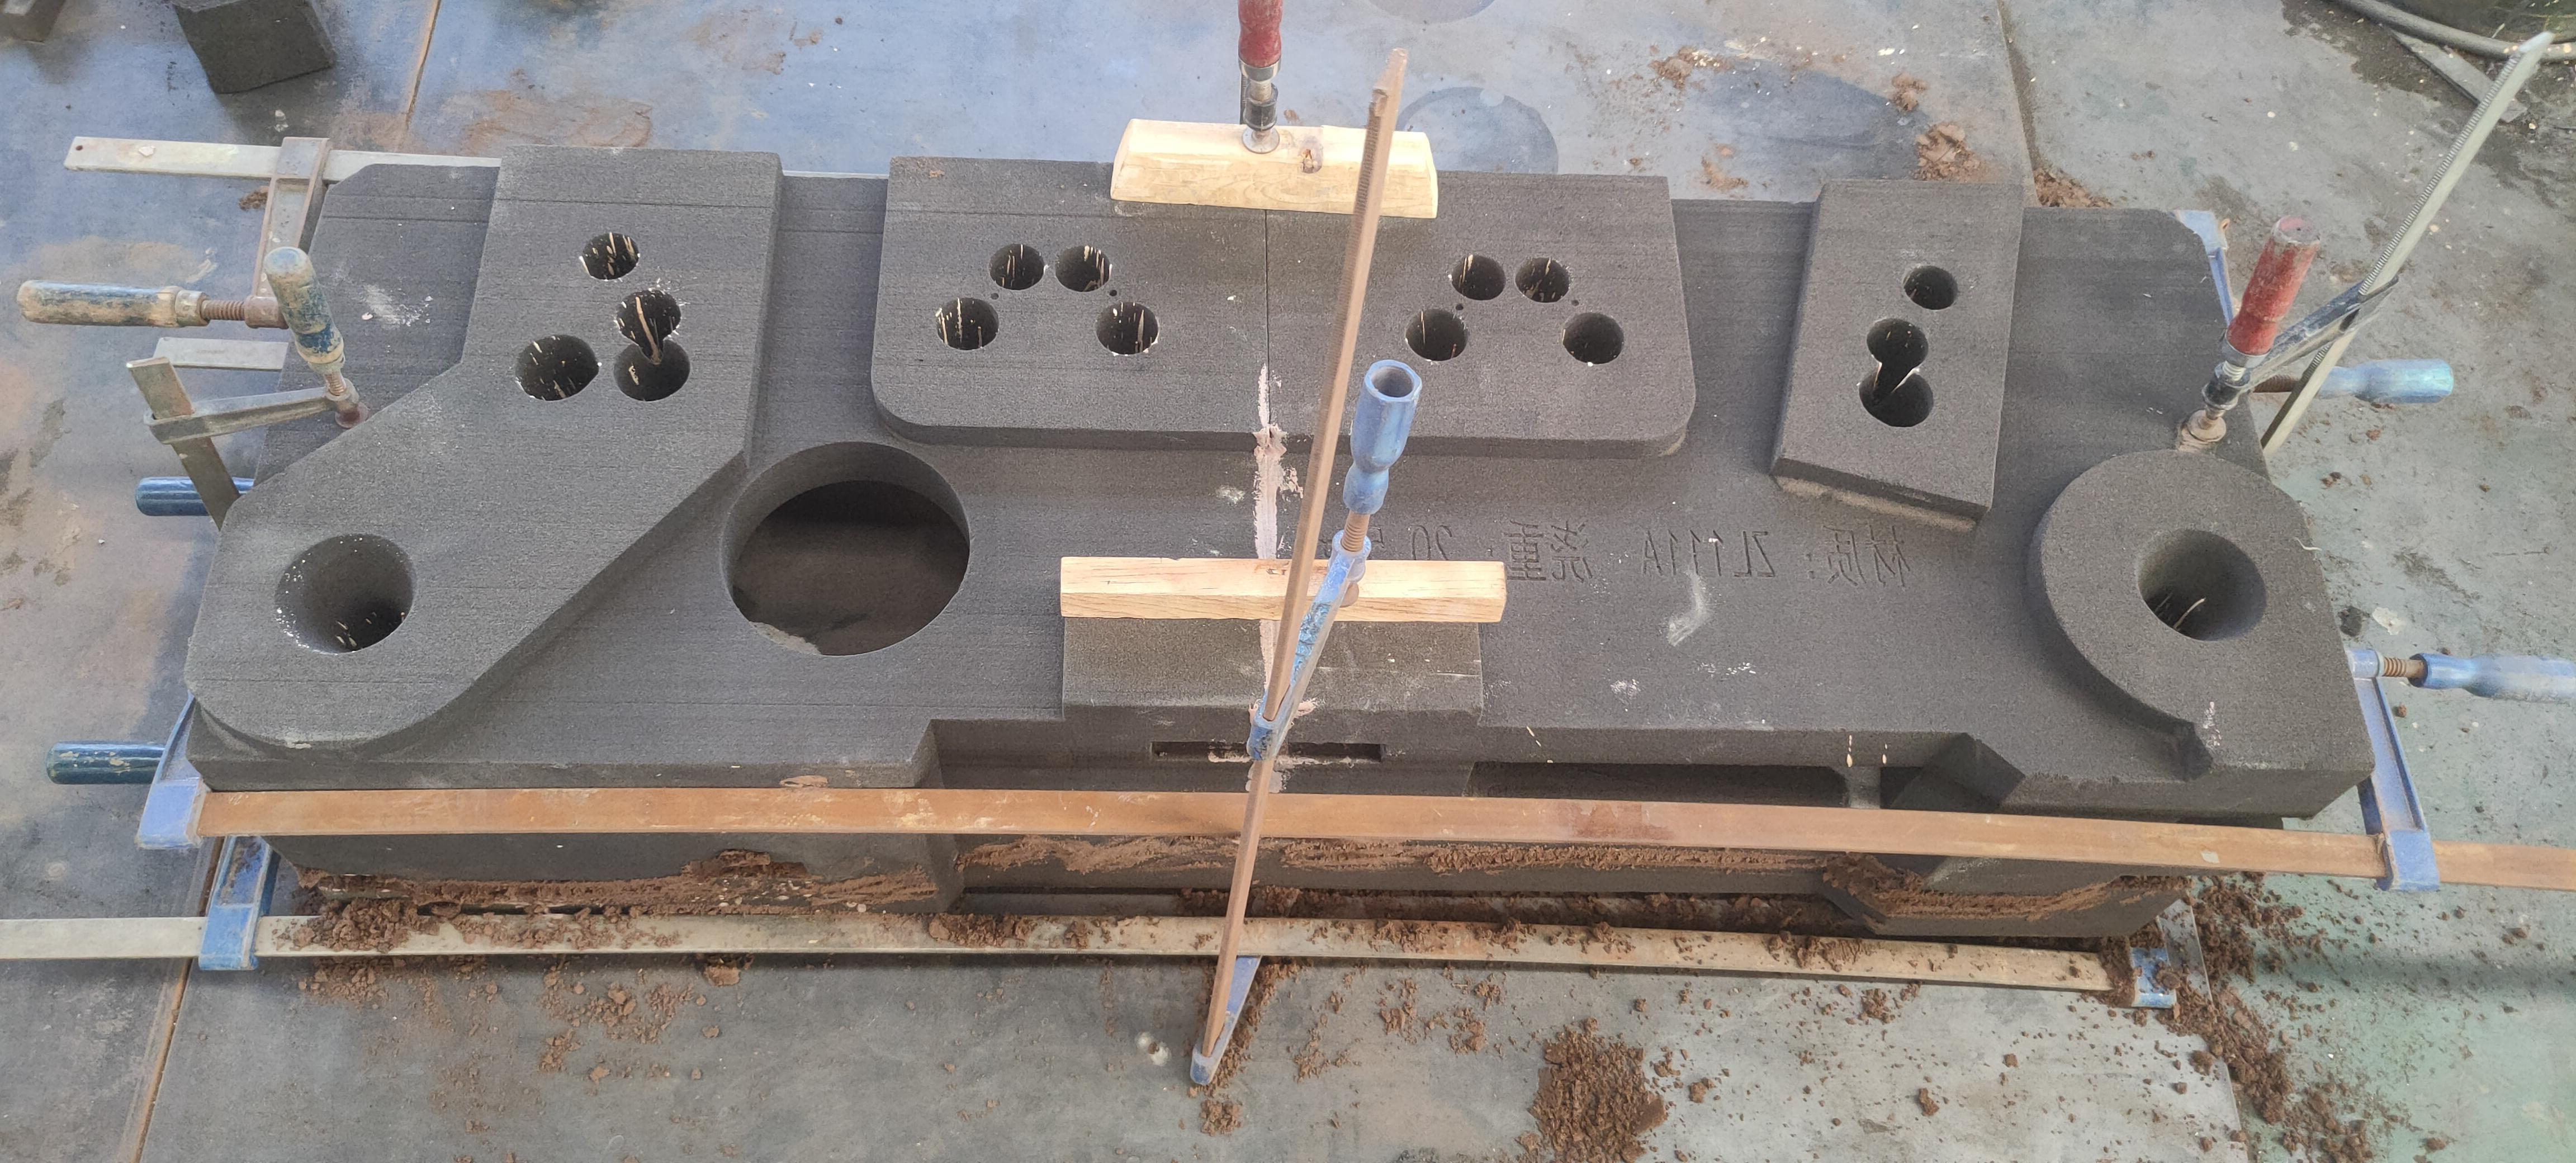pouring hole: (273, 532, 421, 655), (2134, 527, 2270, 644)
